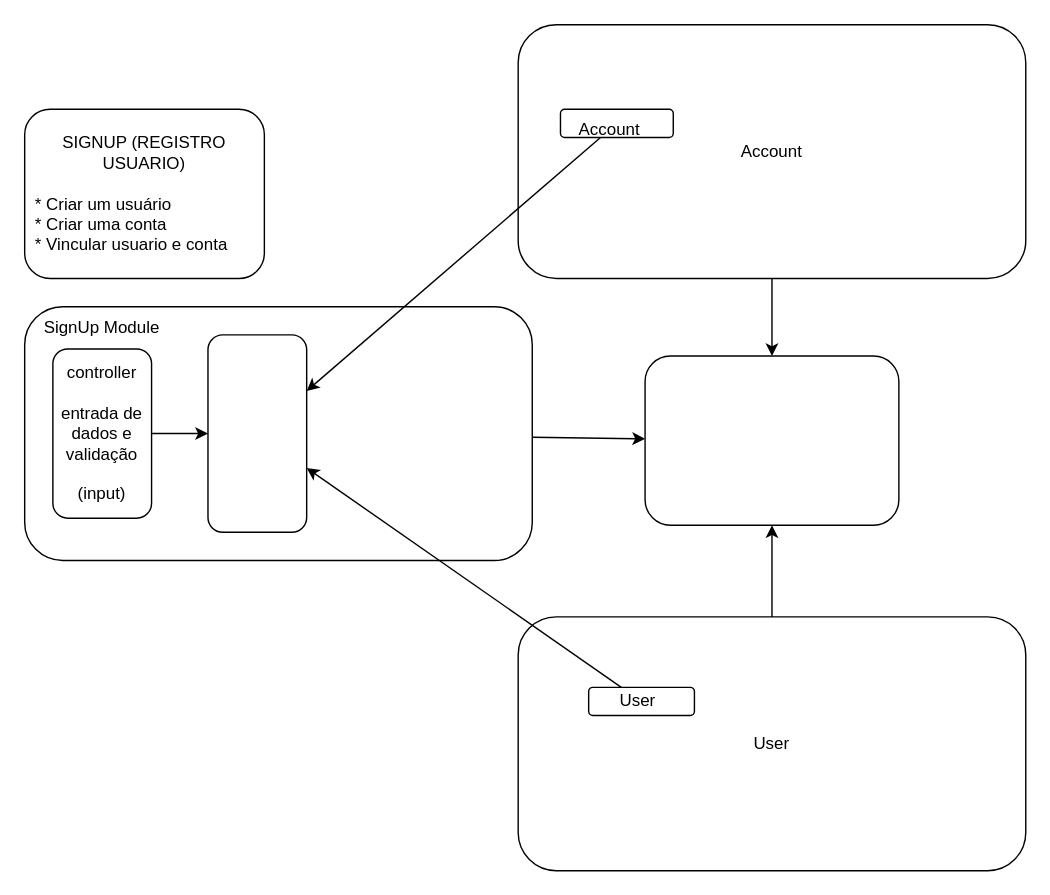
Image size: 1050x895. Some labels were removed from this diagram. The shapes that lost their labels are listed below. From the top down, each one's box as (x1, y1, x2, y2) in pixels, then its label:
(207, 333, 307, 532): usecase regra de negocio tratar todos os dados vindo da controller
(644, 355, 899, 525): Shared
